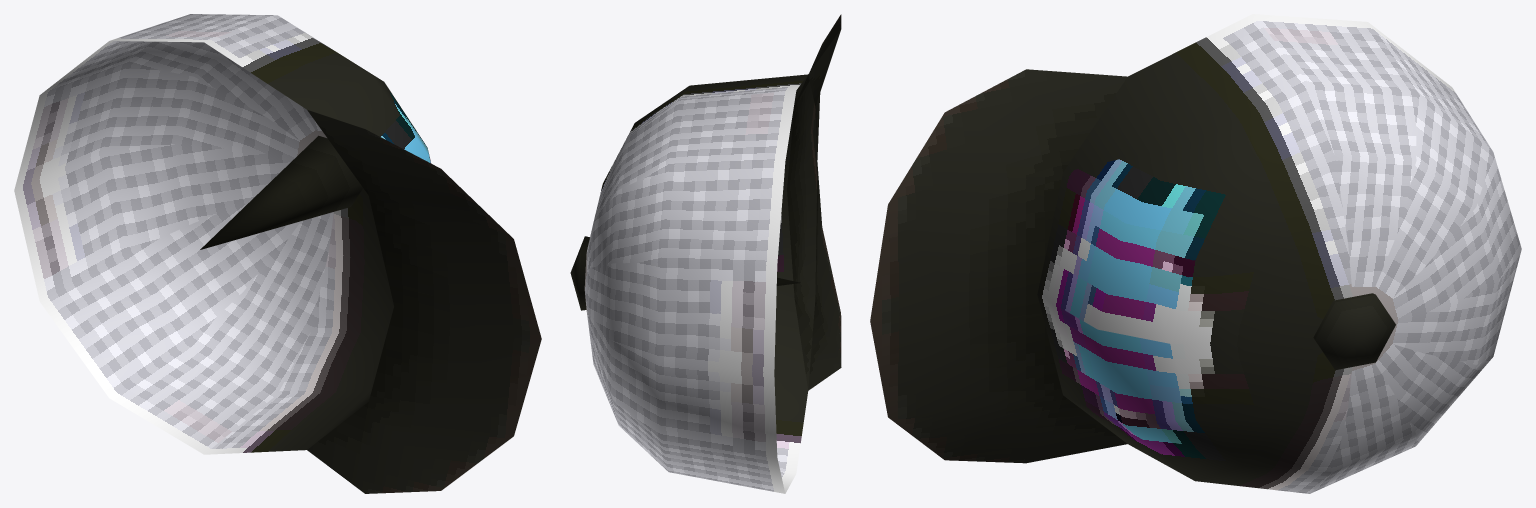
Rendered from cap_cap_blk.dae.
3 views of the same model, side by side, from view 1: azimuth 30°, elevation 25°; view 2: azimuth 150°, elevation 25°; view 3: azimuth 270°, elevation 25° (orthographic). The views are drawn at different scales.
Visible parts, largest first — view 1: cap_cap_blk; view 2: cap_cap_blk; view 3: cap_cap_blk.
Boxes of the visible parts, <box> form: cap_cap_blk: <box>14,14,541,493</box>; cap_cap_blk: <box>570,14,841,493</box>; cap_cap_blk: <box>870,14,1521,493</box>.
Bounding box in the file's own units: 15.43 × 21.14 × 28.04.
Materials: 1 (1 with a texture image).
